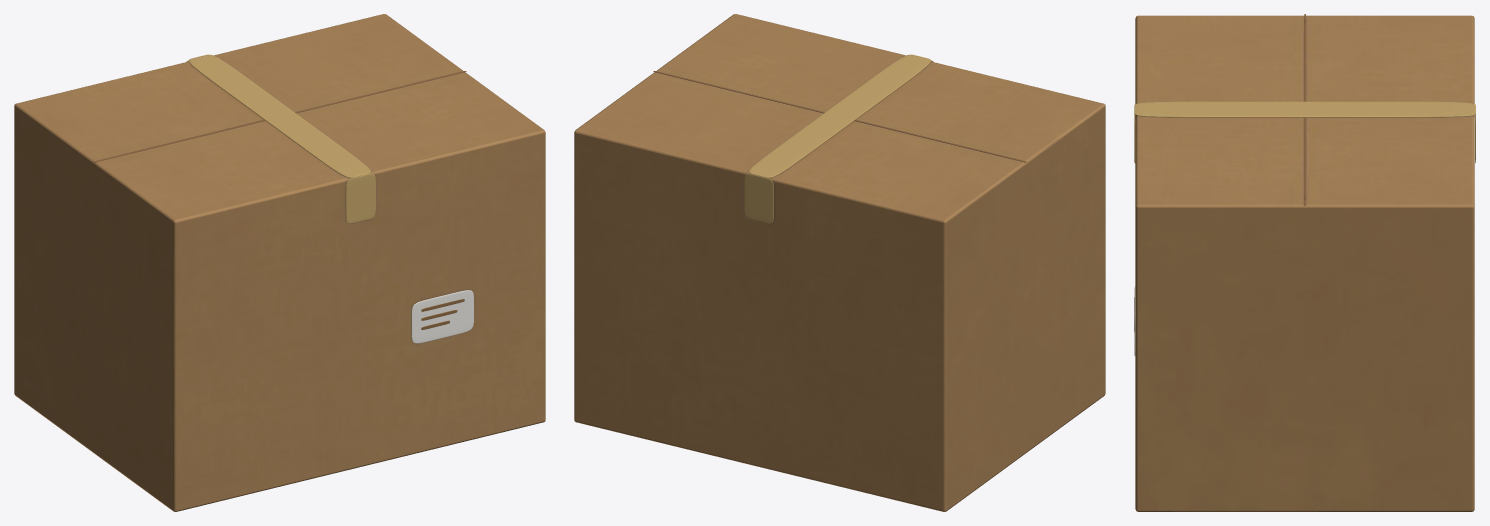
File: single-large.glb
The picture shows the model from 3 angles, left to right: view 1: azimuth 30°, elevation 25°; view 2: azimuth 150°, elevation 25°; view 3: azimuth 270°, elevation 25°; orthographic projection. The views are drawn at different scales.
Visible parts, largest first — view 1: cardboard, tape, label_white, cardboard_dark; view 2: cardboard, tape, cardboard_dark; view 3: cardboard, tape, cardboard_dark.
Boxes of the visible parts, x1,y1,x2,y2 form: cardboard: [14, 14, 545, 511]; tape: [186, 54, 375, 223]; label_white: [411, 290, 473, 343]; cardboard_dark: [93, 71, 466, 329]; cardboard: [574, 14, 1105, 511]; tape: [744, 54, 933, 223]; cardboard_dark: [653, 71, 1026, 162]; cardboard: [1135, 15, 1474, 511]; tape: [1134, 101, 1475, 163]; cardboard_dark: [1134, 14, 1306, 331].
Bounding box in the file's own units: 0.601 × 0.4514 × 0.4534.
Materials: 4 (1 with a texture image).
